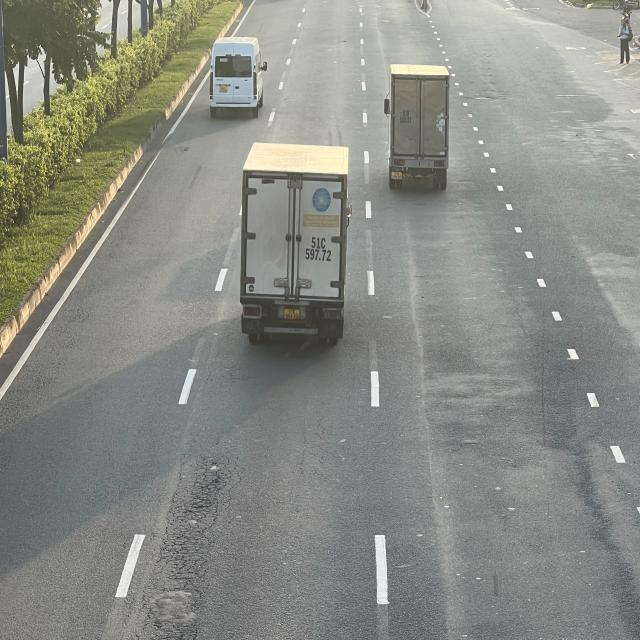truck: (242, 144, 354, 347), (386, 63, 453, 188)
van: (208, 38, 265, 118)
